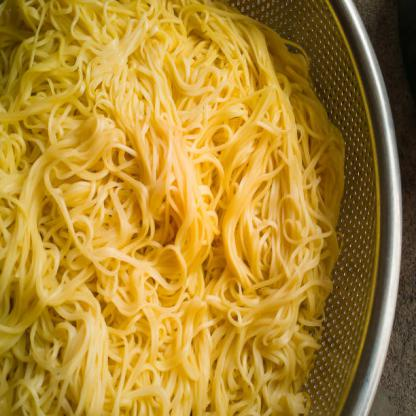Noodles: (0, 0, 345, 415)
